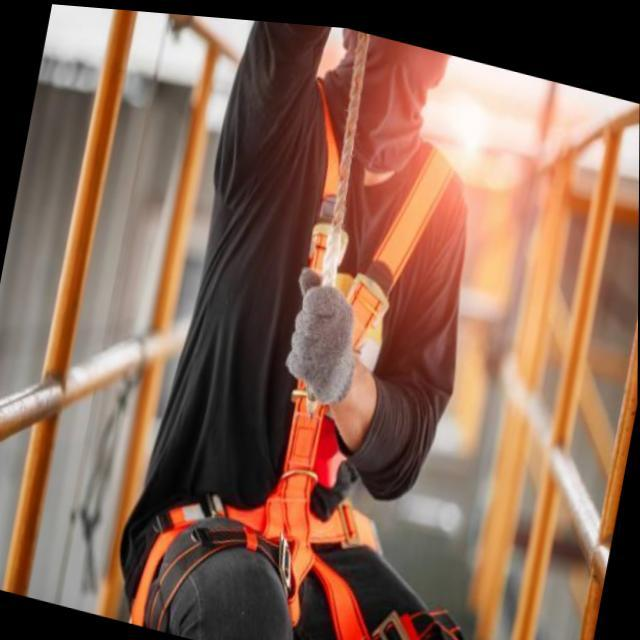belt: (109, 32, 574, 640)
